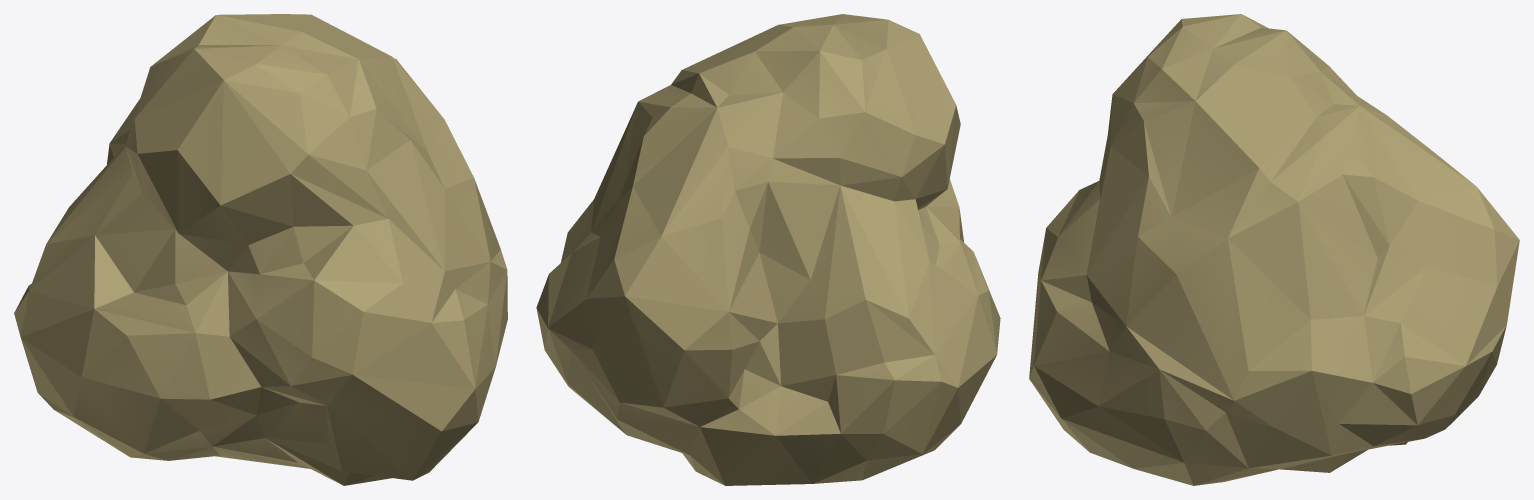
File: SM_rock_32.fbx
3 renders of one model, left to right at view 1: azimuth 30°, elevation 25°; view 2: azimuth 150°, elevation 25°; view 3: azimuth 270°, elevation 25°, orthographic. The views are drawn at different scales.
Visible parts, largest first — view 1: rock_32; view 2: rock_32; view 3: rock_32.
Boxes of the visible parts, <box> form: rock_32: <box>14,14,507,485</box>; rock_32: <box>536,14,1000,485</box>; rock_32: <box>1029,14,1519,485</box>.
Size of the model in its own units: 136 by 132 by 146.
